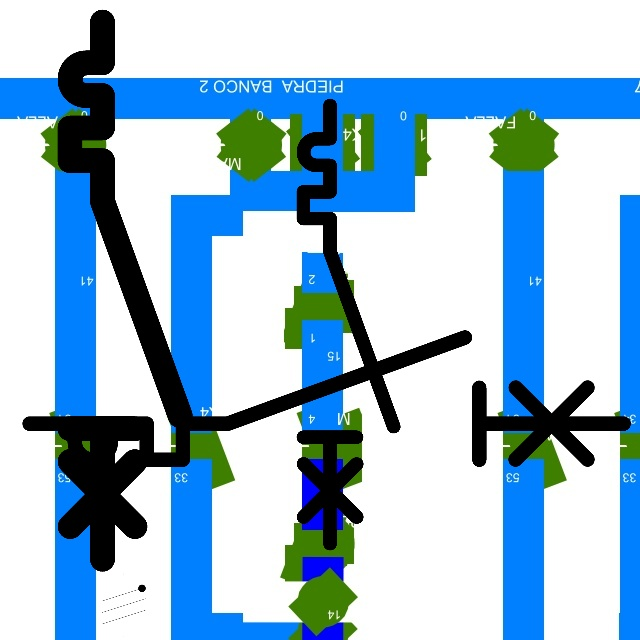interruptor_termomagnetico: (14, 322, 638, 475), (56, 8, 194, 573), (292, 94, 405, 555)
